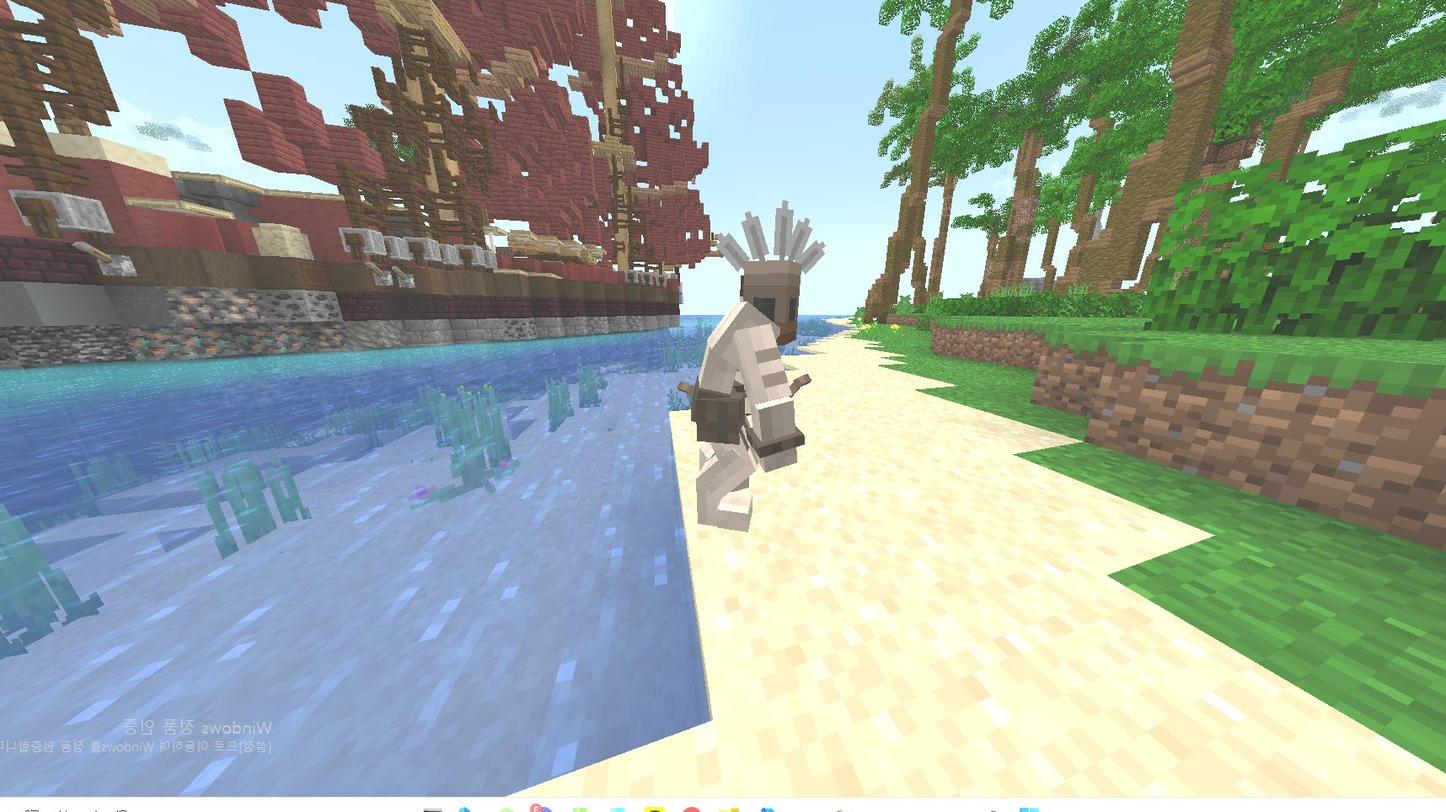bow_indian: (633, 191, 854, 552)
